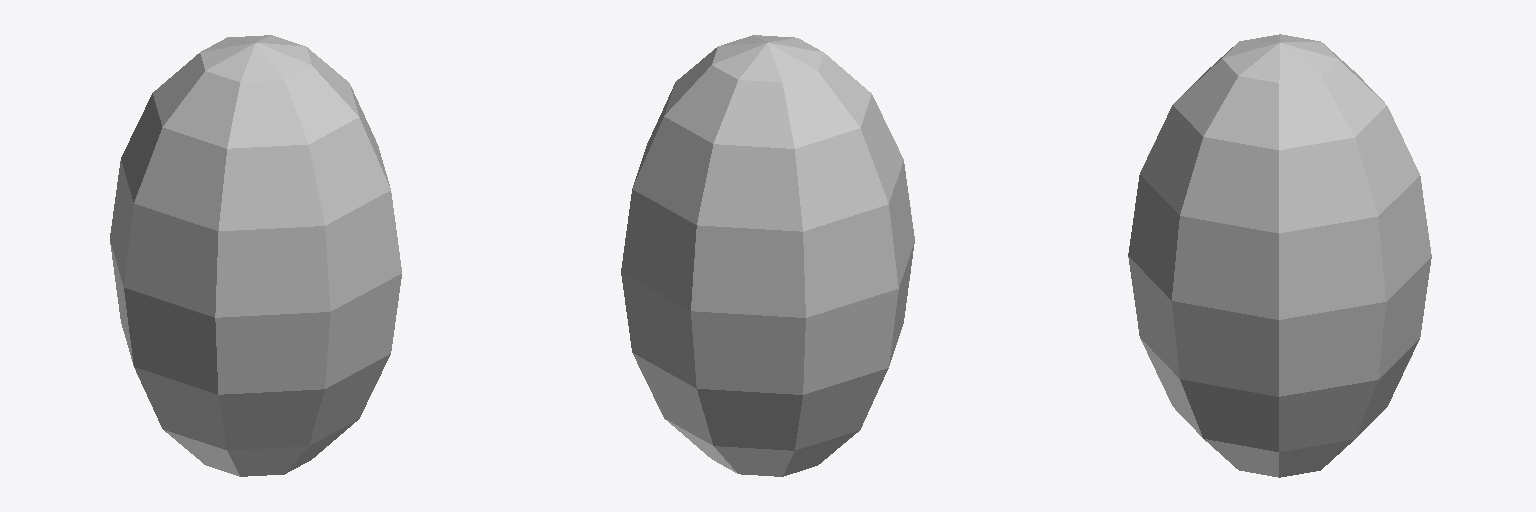
The model's file is beehive.obj.
3 renders of one model, left to right at view 1: azimuth 30°, elevation 25°; view 2: azimuth 150°, elevation 25°; view 3: azimuth 270°, elevation 25°, orthographic.
Visible parts, largest first — view 1: Plane_Plane.003; view 2: Plane_Plane.003; view 3: Plane_Plane.003.
Part boxes in pixels (bbox=[...]): Plane_Plane.003: bbox=[110, 35, 401, 476]; Plane_Plane.003: bbox=[621, 35, 914, 476]; Plane_Plane.003: bbox=[1128, 34, 1431, 477].
Bounding box in the file's own units: 2.2 × 3.41 × 2.2.